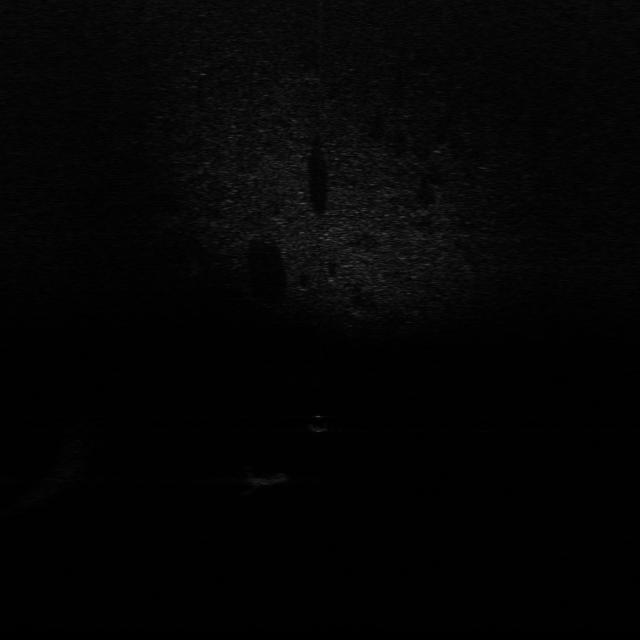ball: (302, 414, 333, 434)
circle cage: (244, 467, 292, 490)
